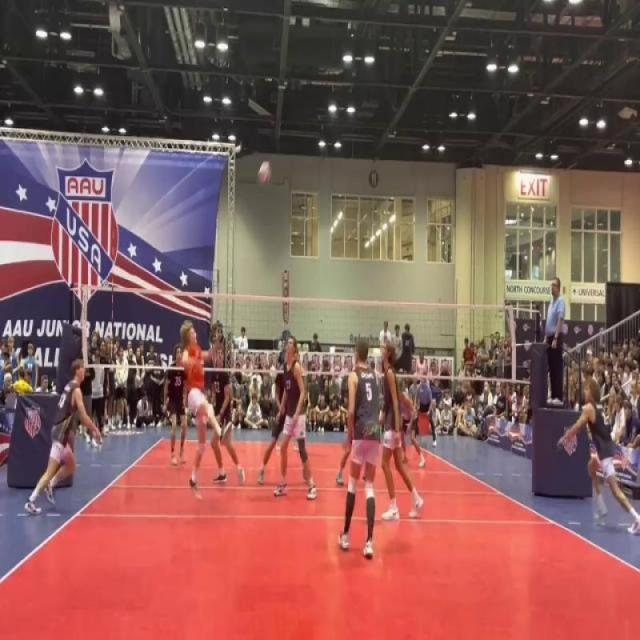volleyball: (255, 160, 273, 186)
